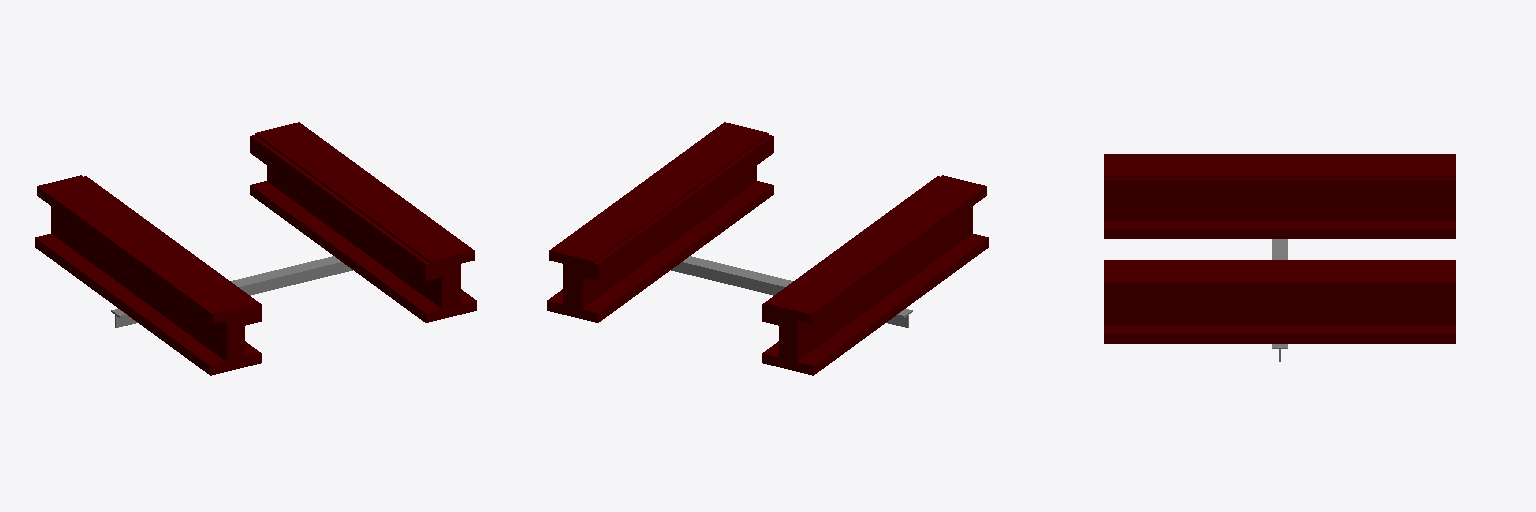
Rendered from rmc.obj.
The picture shows the model from 3 angles: view 1: azimuth 30°, elevation 25°; view 2: azimuth 150°, elevation 25°; view 3: azimuth 270°, elevation 25°; orthographic projection.
Bounding box in the file's own units: 1.52 × 0.3905 × 1.65.